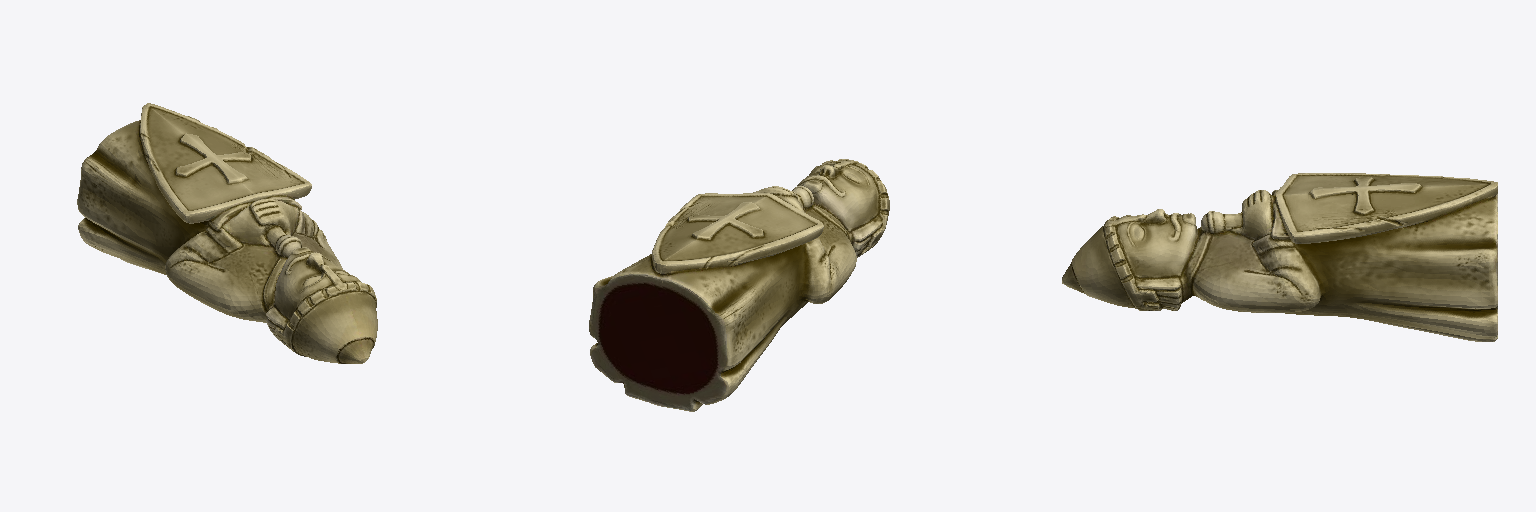
The picture shows the model from 3 angles: view 1: azimuth 30°, elevation 25°; view 2: azimuth 150°, elevation 25°; view 3: azimuth 270°, elevation 25°; orthographic projection.
Parts seen in each view (by area): view 1: mmGroup0; view 2: mmGroup0; view 3: mmGroup0.
Part boxes in pixels (x1,y1,x2,y2): mmGroup0: (77, 103, 377, 363); mmGroup0: (589, 159, 889, 411); mmGroup0: (1062, 173, 1497, 341).
Size of the model in its own units: 3.88 by 3.59 by 9.68.
1 materials, 1 textured.